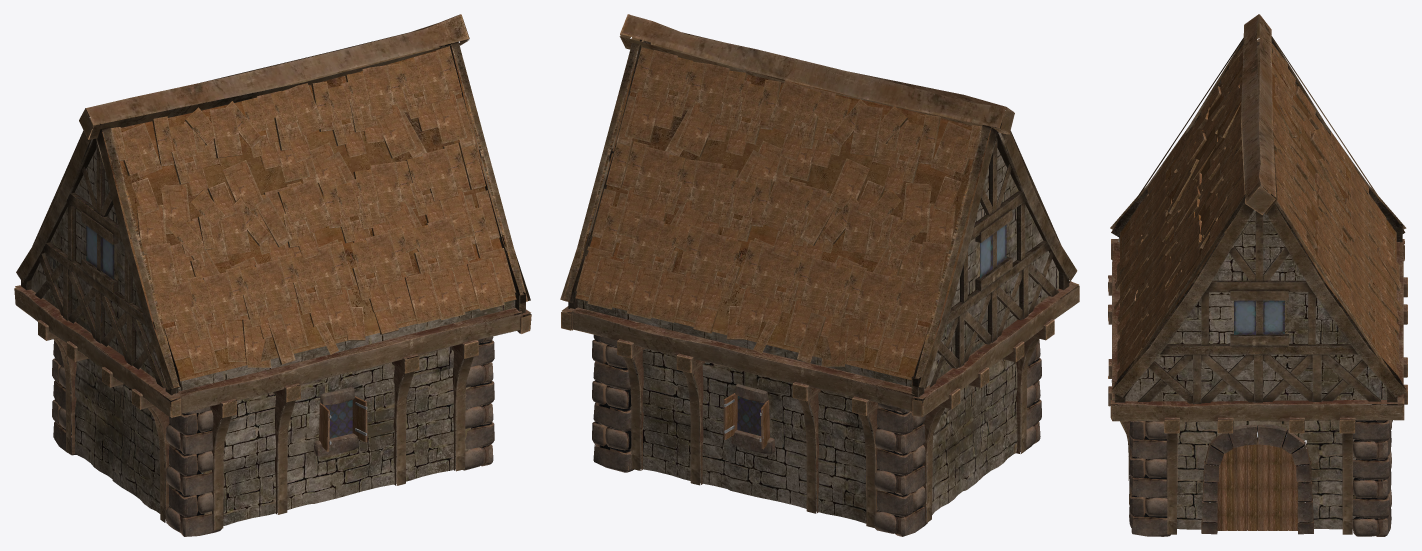
File: casa_piedra.glb
The picture shows the model from 3 angles, left to right: view 1: azimuth 30°, elevation 25°; view 2: azimuth 150°, elevation 25°; view 3: azimuth 270°, elevation 25°; orthographic projection. The views are drawn at different scales.
Parts seen in each view (by area): view 1: defaultMaterial.002, defaultMaterial, defaultMaterial.004, defaultMaterial.003, defaultMaterial.001; view 2: defaultMaterial.002, defaultMaterial, defaultMaterial.004, defaultMaterial.003, defaultMaterial.001; view 3: defaultMaterial.002, defaultMaterial.003, defaultMaterial.004, defaultMaterial, defaultMaterial.001.
Part boxes in pixels (x1=…): defaultMaterial.002: x1=79, y1=14, x2=516, y2=381; defaultMaterial: x1=31, y1=46, x2=515, y2=525; defaultMaterial.004: x1=14, y1=226, x2=531, y2=530; defaultMaterial.003: x1=16, y1=41, x2=530, y2=404; defaultMaterial.001: x1=52, y1=336, x2=494, y2=536; defaultMaterial.002: x1=575, y1=14, x2=1014, y2=379; defaultMaterial: x1=572, y1=132, x2=1058, y2=523; defaultMaterial.004: x1=561, y1=224, x2=1079, y2=527; defaultMaterial.003: x1=560, y1=39, x2=1077, y2=403; defaultMaterial.001: x1=592, y1=334, x2=1041, y2=536; defaultMaterial.002: x1=1114, y1=14, x2=1402, y2=379; defaultMaterial.003: x1=1110, y1=36, x2=1406, y2=405; defaultMaterial.004: x1=1108, y1=239, x2=1407, y2=534; defaultMaterial: x1=1118, y1=46, x2=1386, y2=529; defaultMaterial.001: x1=1129, y1=420, x2=1391, y2=536.
Size of the model in its own units: 6.95 by 6.9 by 5.09.
5 materials, 5 textured.
